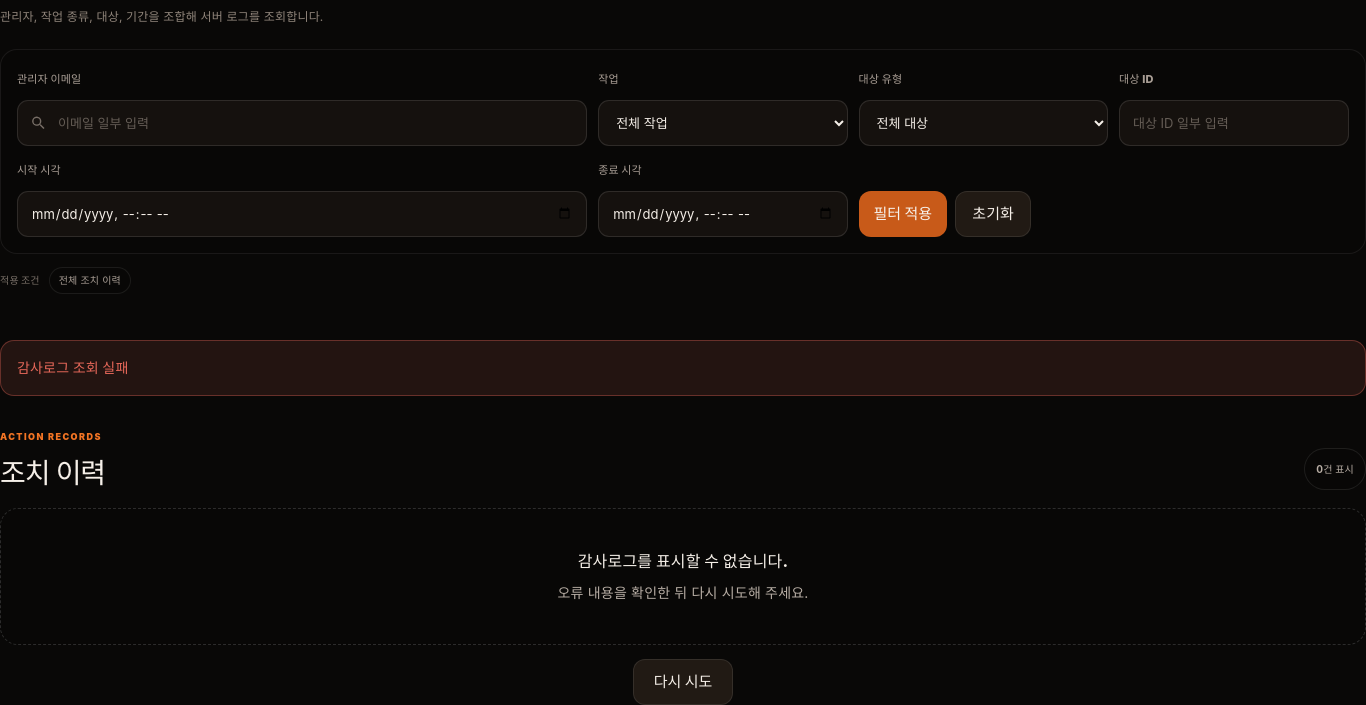
Scenario: AdminAuditLogPage › shows an initial load error separately and retries the list request
(page scrolled)
Expected: the text "감사로그 조회 실패" is shown, [0,340,1365,396]
Expected: the text "감사로그를 표시할 수 없습니다." is shown, [578,551,788,571]
Click the button "다시 시도": coordinates (683, 682) [633,659,733,704]
(page scrolled)
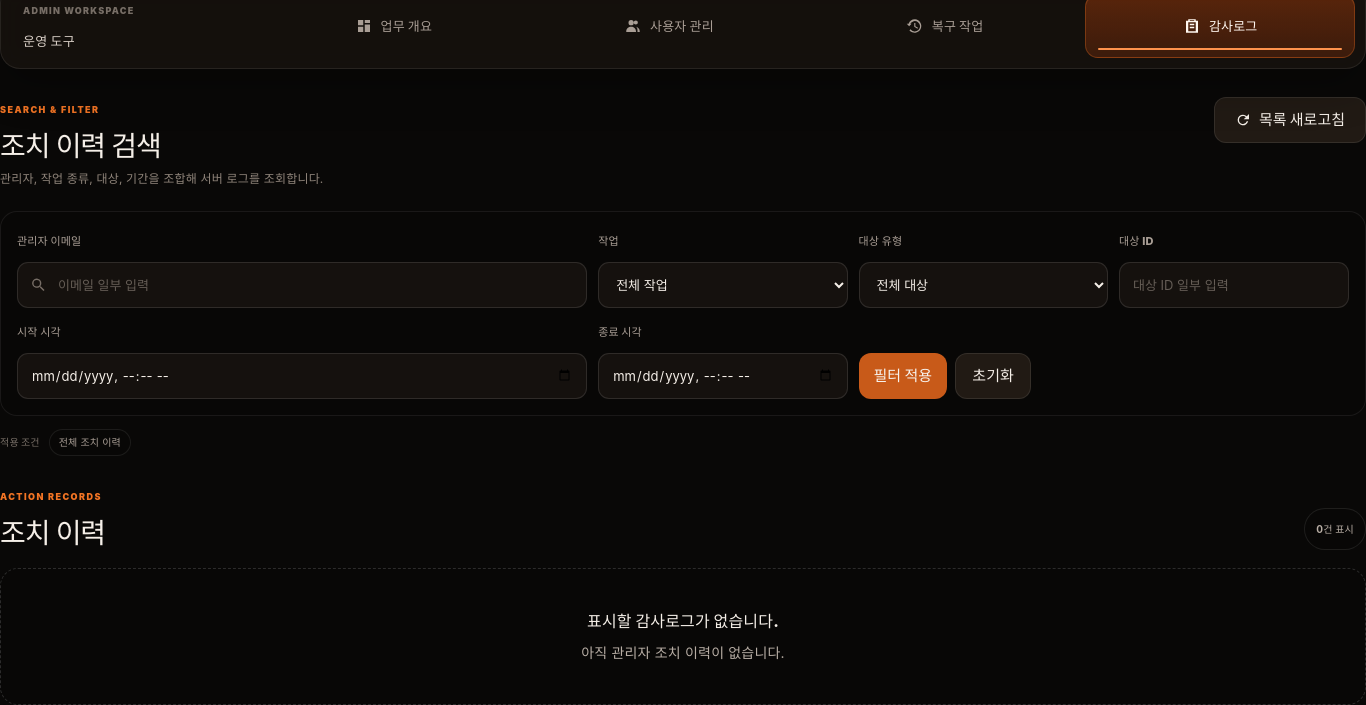
Now the text "표시할 감사로그가 없습니다." is shown, box [587,611,779,631]
